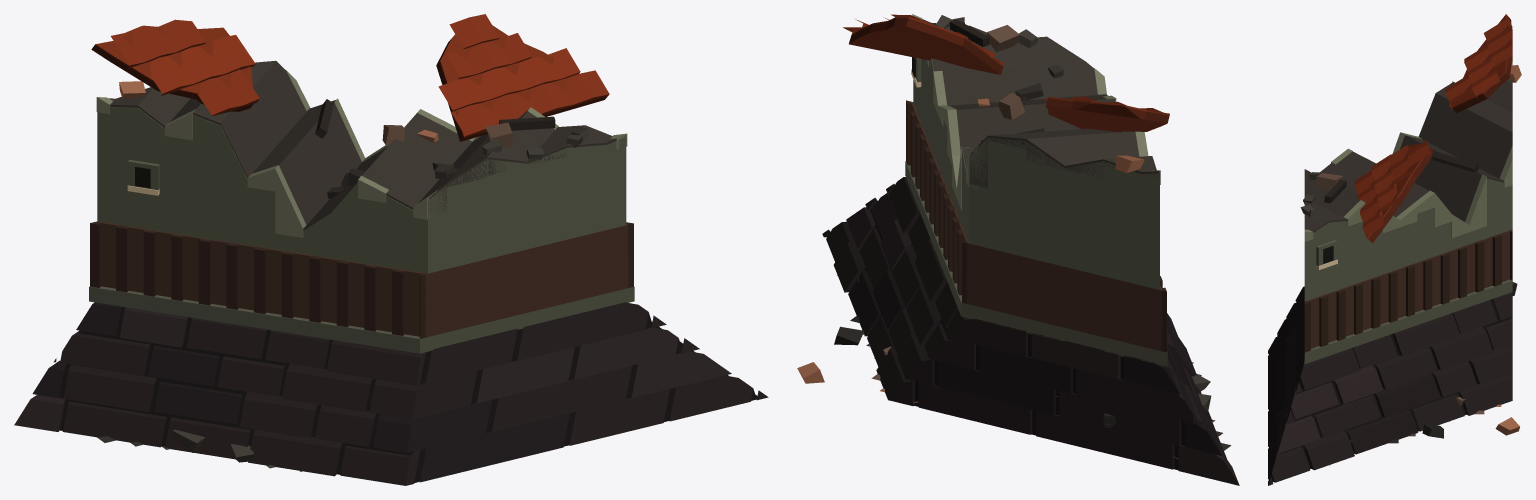
Rendered from VerWall11a.glb.
The picture shows the model from 3 angles, left to right: view 1: azimuth 30°, elevation 25°; view 2: azimuth 150°, elevation 25°; view 3: azimuth 270°, elevation 25°; orthographic projection. The views are drawn at different scales.
Visible parts, largest first — view 1: VerWall11a_stone2; view 2: VerWall11a_stone2; view 3: VerWall11a_stone2.
Part boxes in pixels (x1,y1,x2,y2): VerWall11a_stone2: (14,14,768,485); VerWall11a_stone2: (797,14,1239,485); VerWall11a_stone2: (1268,14,1521,485).
Bounding box in the file's own units: 9.32 × 5.52 × 4.51.
